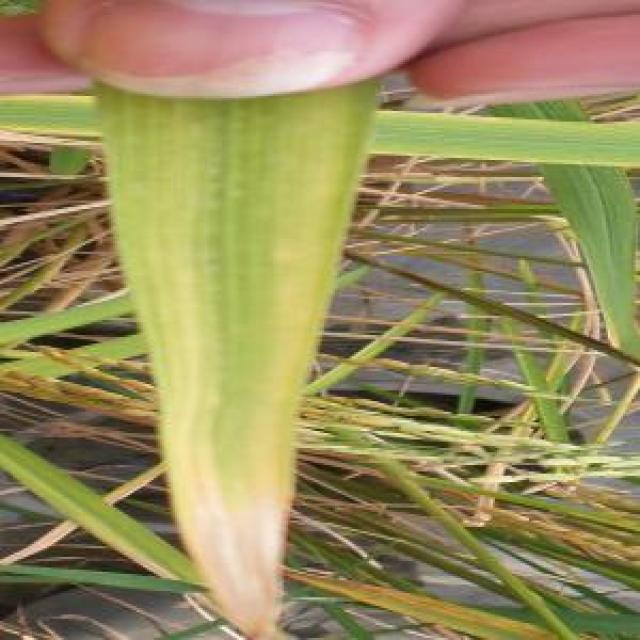Bacterial_Blight: (158, 420, 302, 640), (2, 456, 185, 615)
